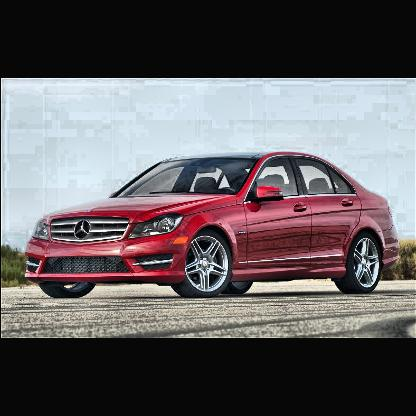Mercedes-Benz C-Class Sedan 2012: (24, 149, 401, 299)
